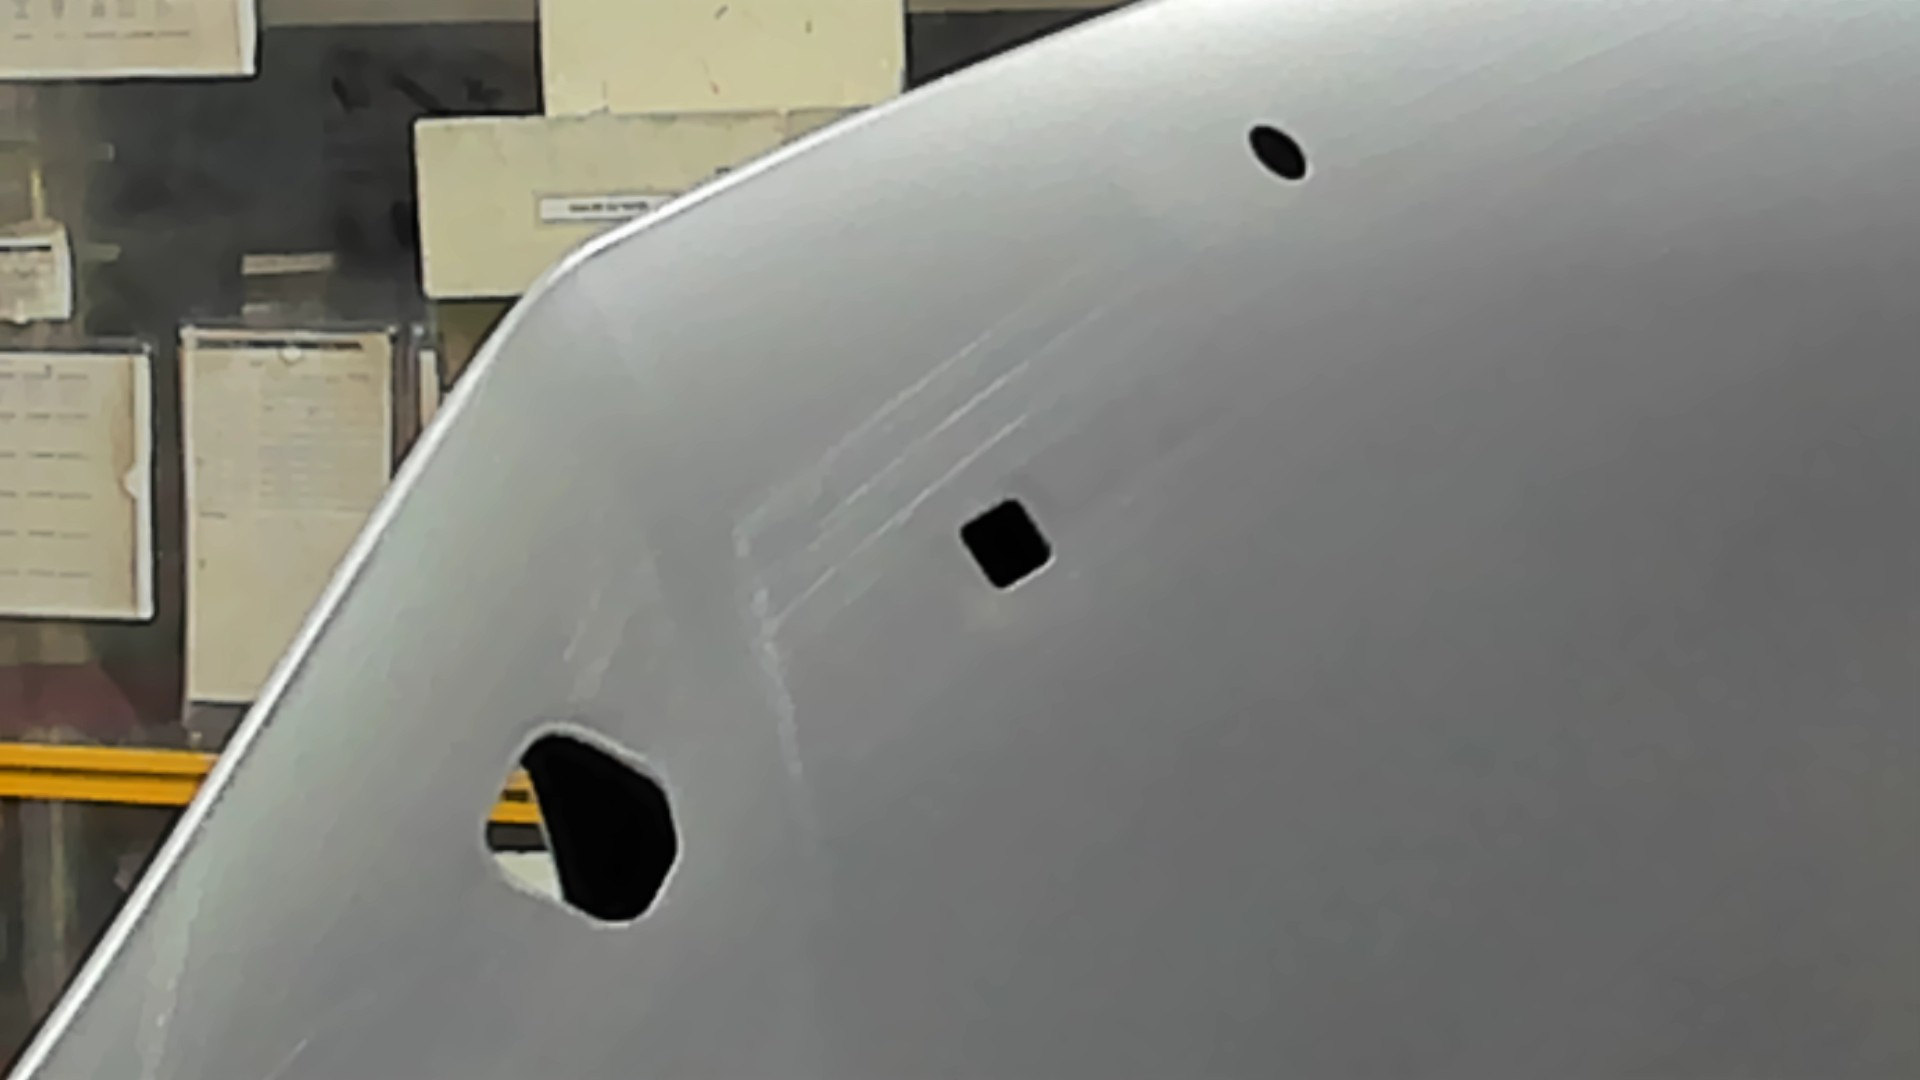chico: (1242, 117, 1313, 187)
grande: (473, 717, 688, 931)
mediano: (952, 495, 1060, 592)
